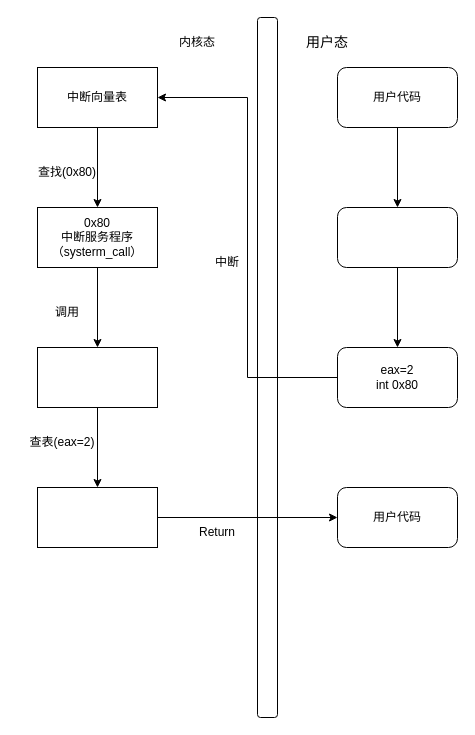
Image size: 475x735. Some labels were removed from this diagram. Here are the shapes that lost their labels. From the top down, the box of each, then its label:
(336, 206, 458, 268): fork()
(36, 346, 158, 408): 系统调用表
(36, 486, 158, 548): 系统调用(sys_fork)
